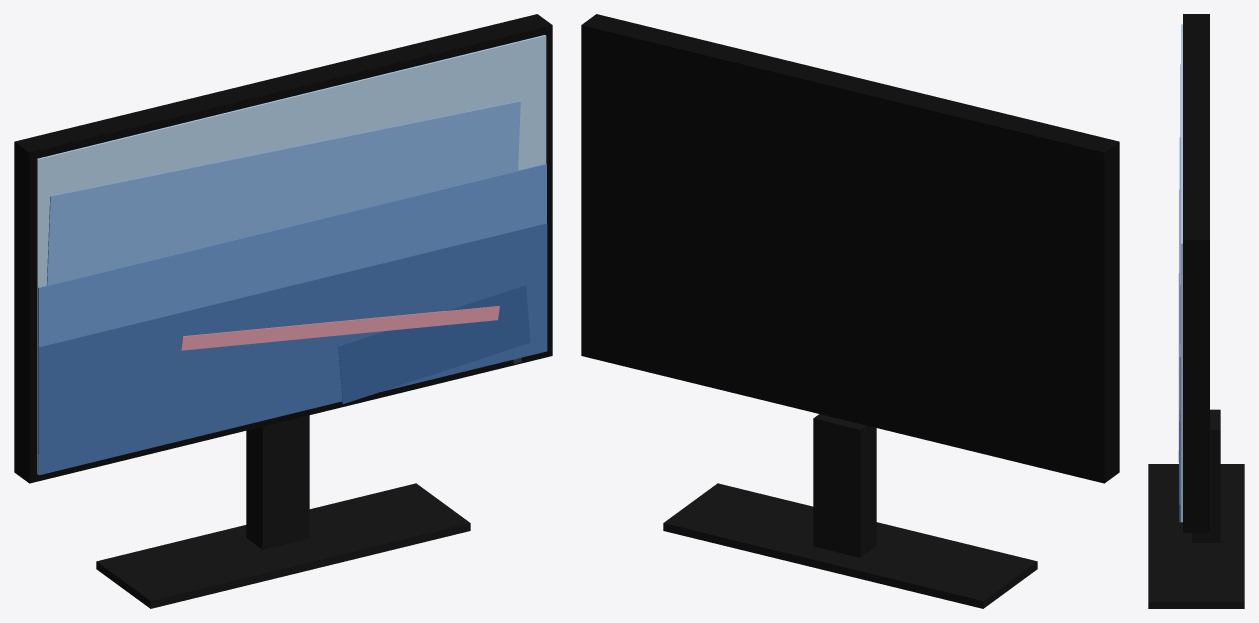
The model's file is 19-monitor-blue-mountain-24.glb.
3 renders of one model, left to right at view 1: azimuth 30°, elevation 25°; view 2: azimuth 150°, elevation 25°; view 3: azimuth 270°, elevation 25°, orthographic. The views are drawn at different scales.
Bounding box in the file's own units: 0.556 × 0.474 × 0.1.
